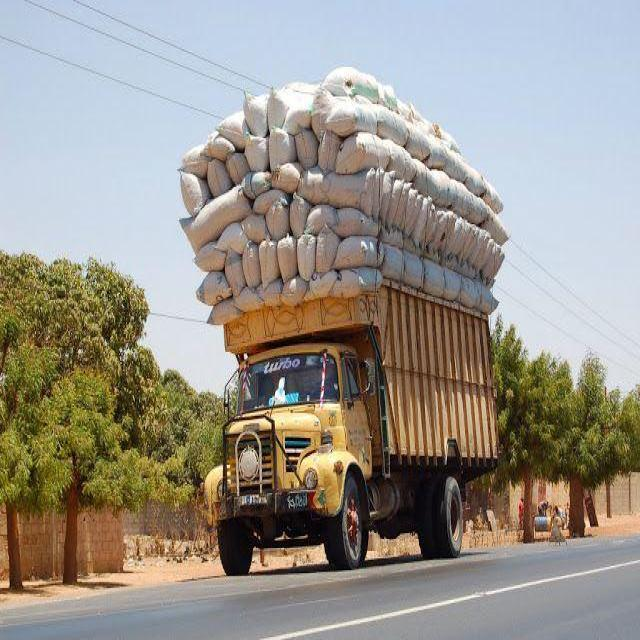uncovered: (177, 48, 507, 558)
